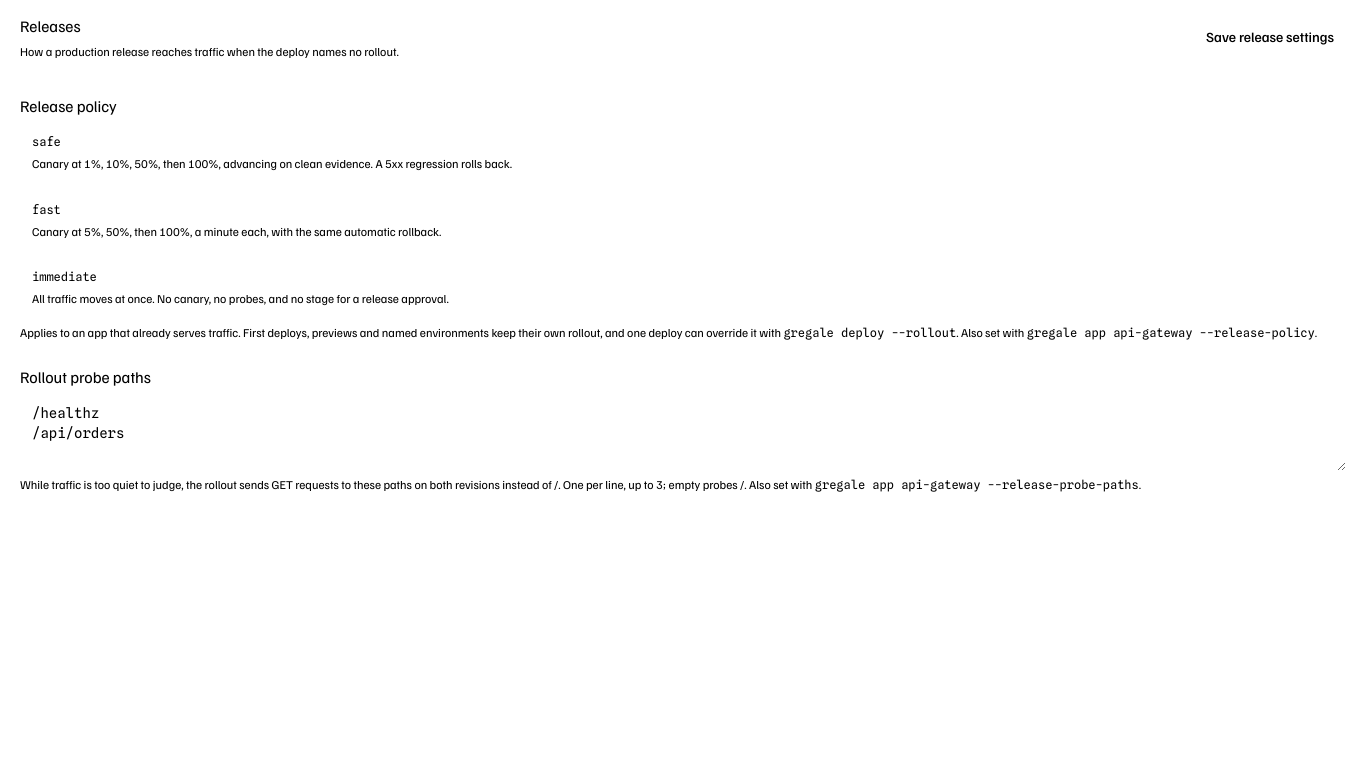
it: AppReleaseSettings › rechecks availability when apid says the capability is not released
The image size is (1366, 768).
Click the button "safe": (272,164) x1=20 y1=124 x2=1346 y2=184
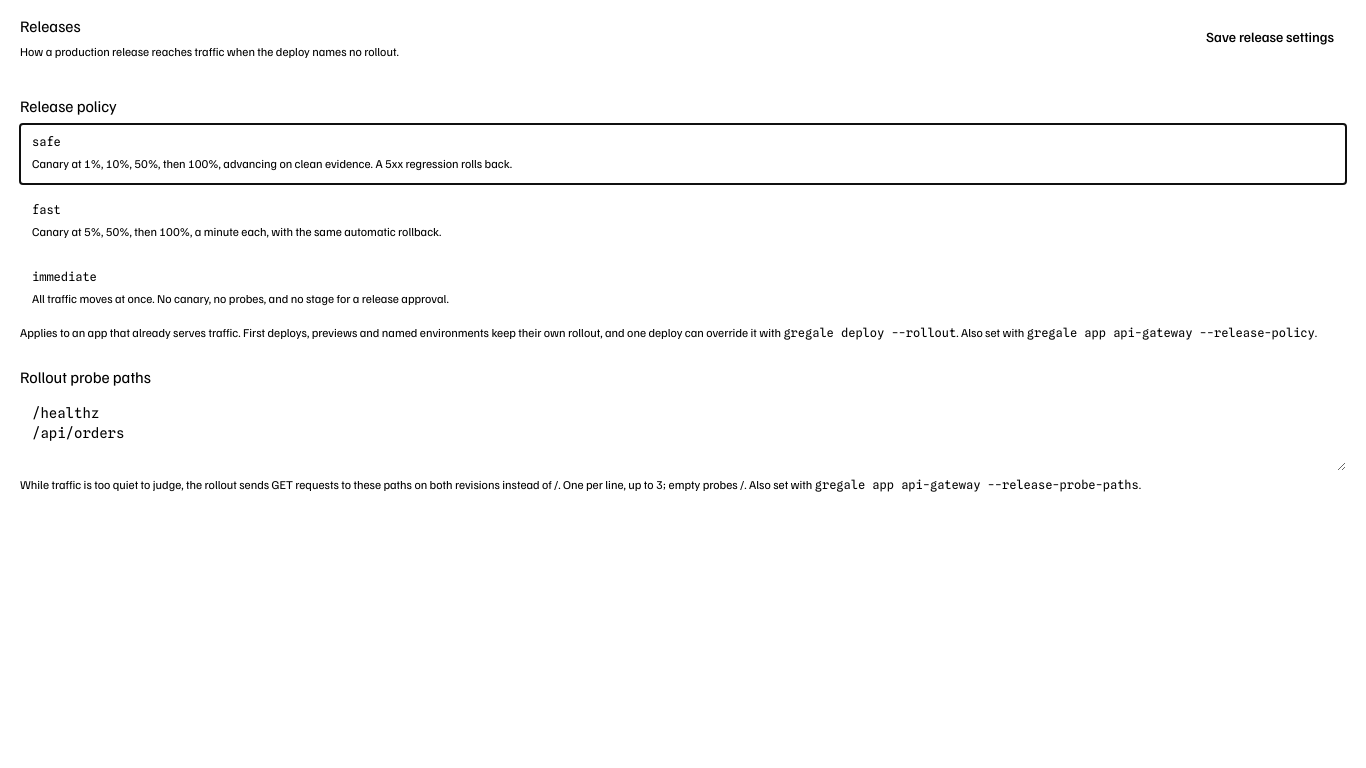
Click the button "Save release settings": (1270,37) x1=1194 y1=21 x2=1346 y2=53
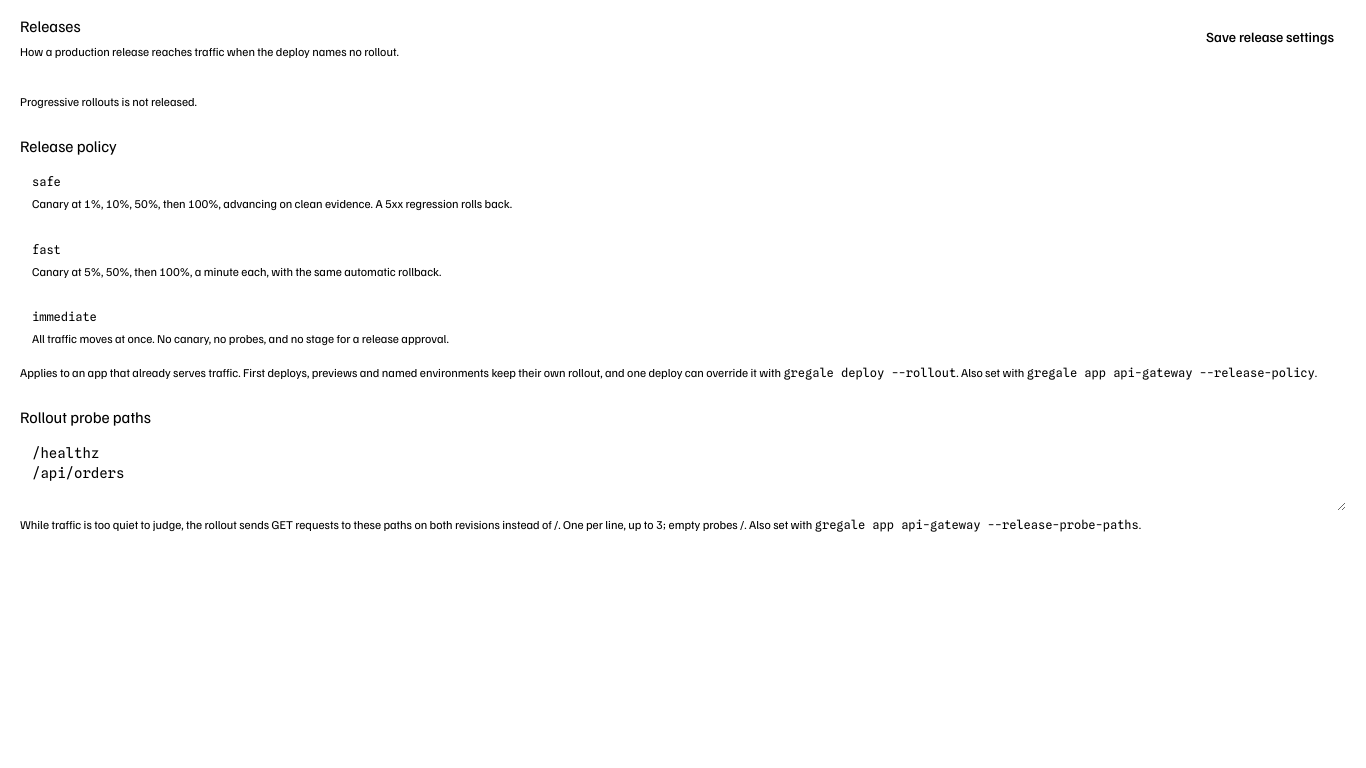
Expected: the message shows "not released", x1=20 y1=94 x2=197 y2=109
